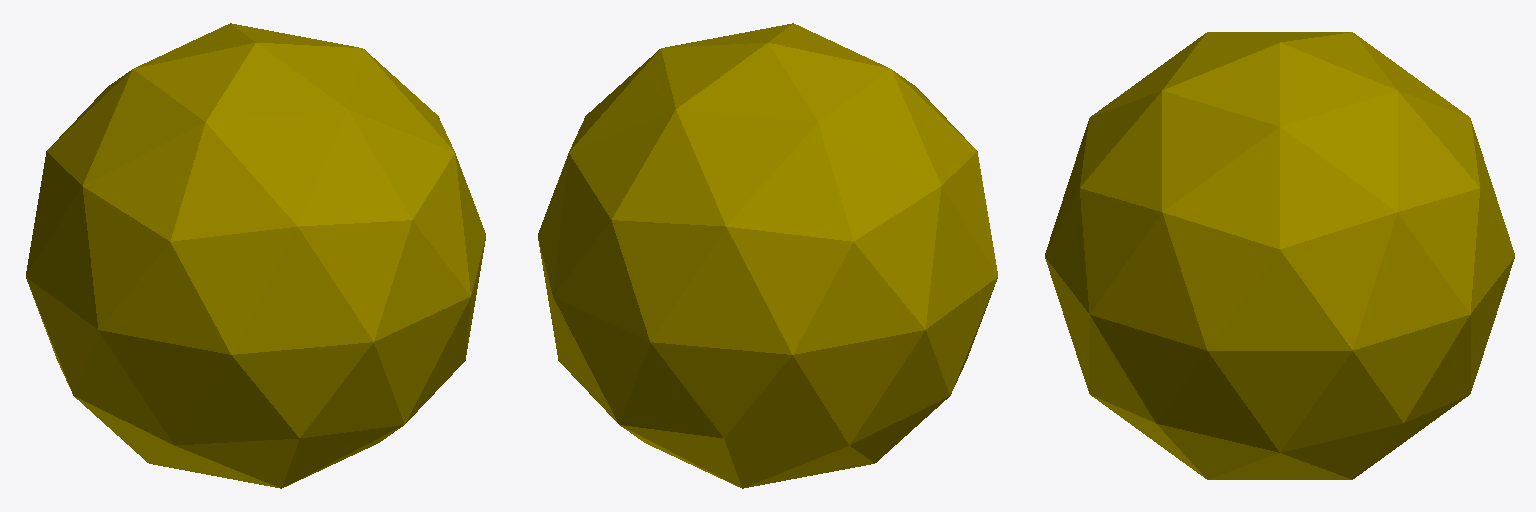
Rendered from sun.obj.
3 views of the same model, side by side, from view 1: azimuth 30°, elevation 25°; view 2: azimuth 150°, elevation 25°; view 3: azimuth 270°, elevation 25° (orthographic).
Parts seen in each view (by area): view 1: Icosphere; view 2: Icosphere; view 3: Icosphere.
Boxes of the visible parts, x1,y1,x2,y2 form: Icosphere: [26, 23, 485, 488]; Icosphere: [538, 23, 997, 488]; Icosphere: [1045, 32, 1514, 479].
Size of the model in its own units: 1.9 by 2 by 2.